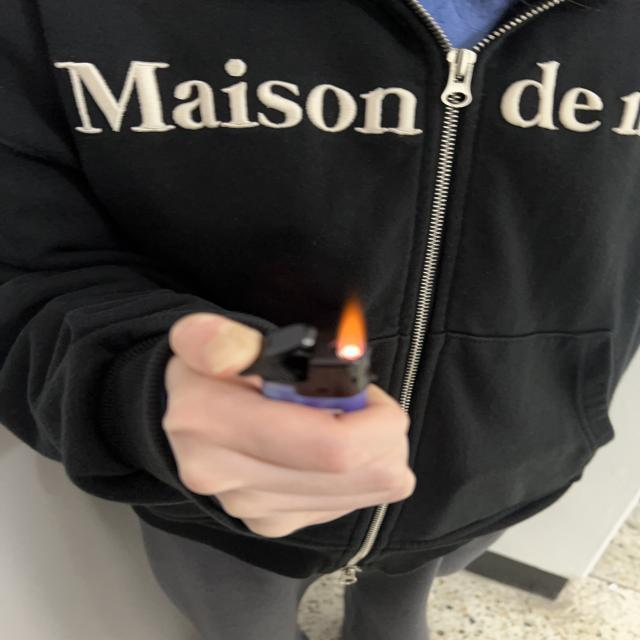fire: (334, 293, 371, 362)
